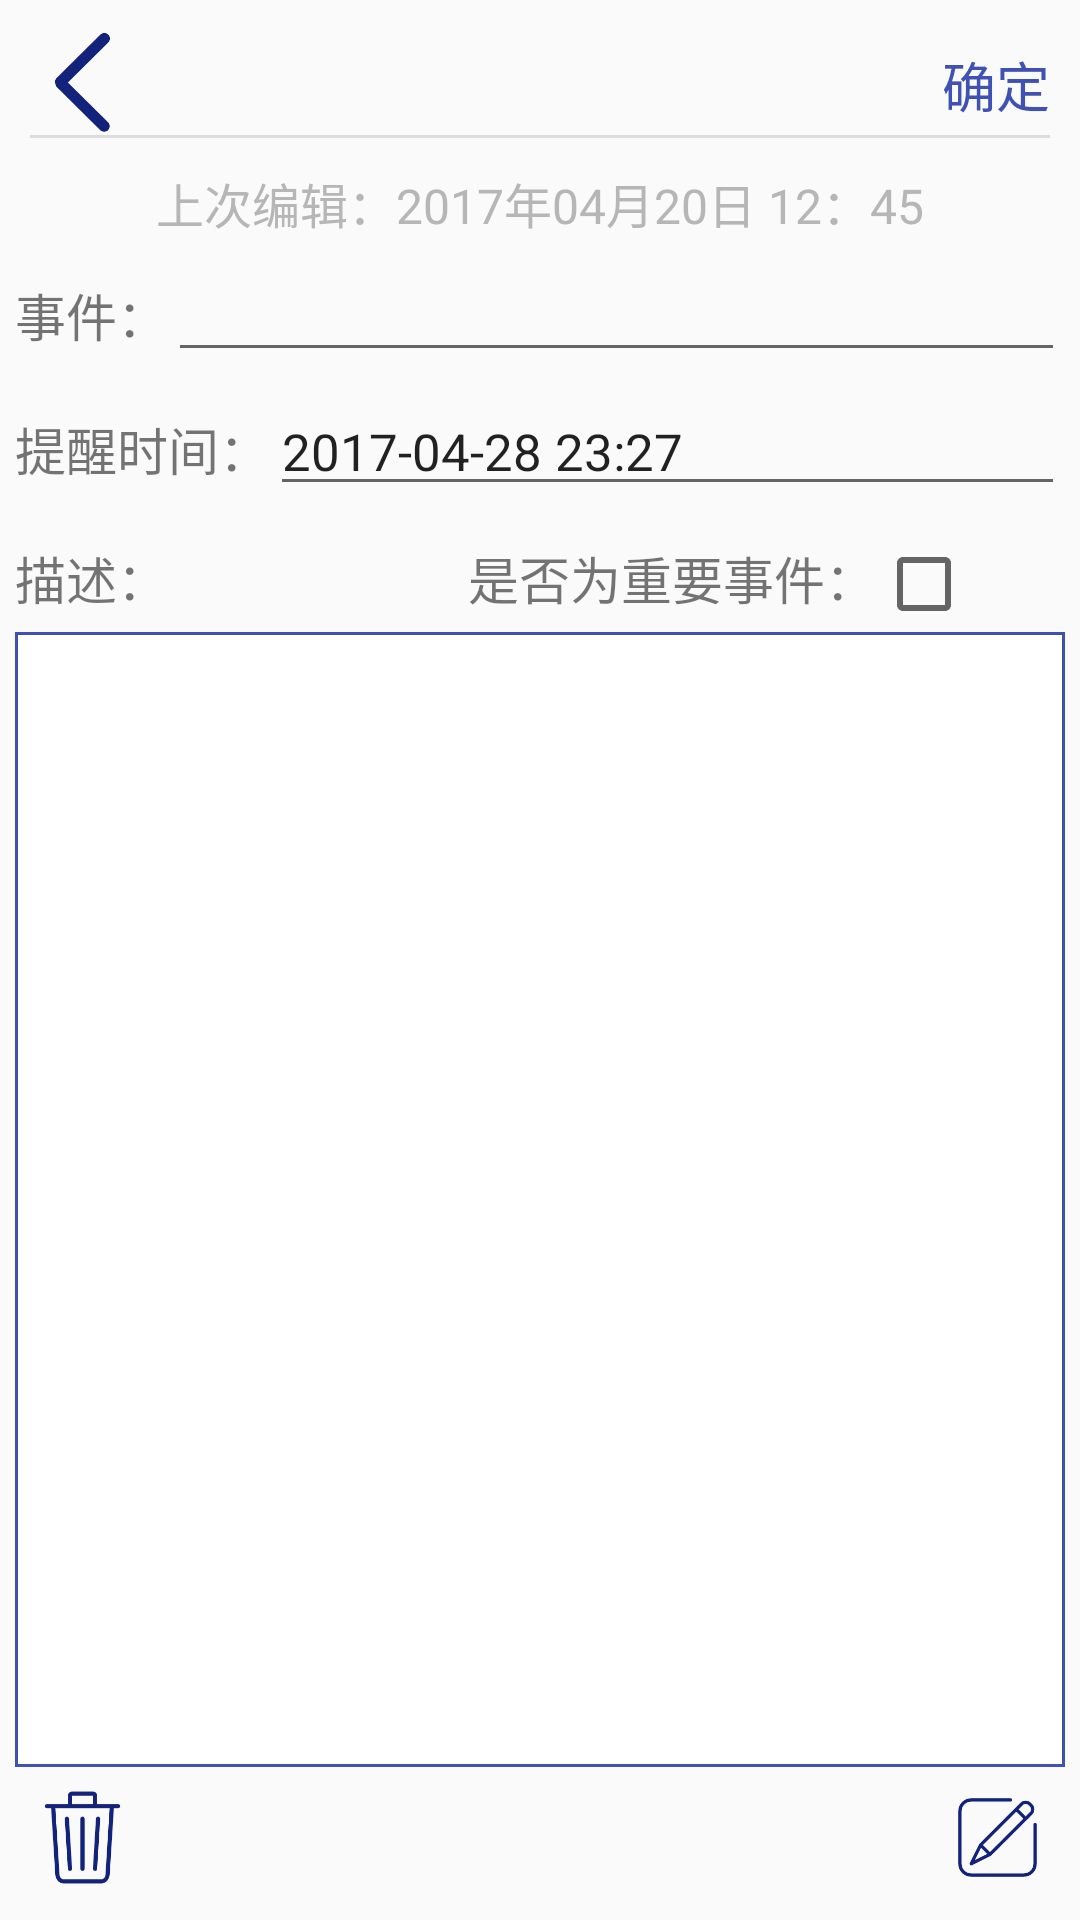

Screen size 1080px x 1920px. Icon name, then its box in pixels as (x1, y1, x2, y2):
back: (55, 33, 110, 132)
delete event: (45, 1791, 120, 1884)
edit: (958, 1798, 1037, 1877)
